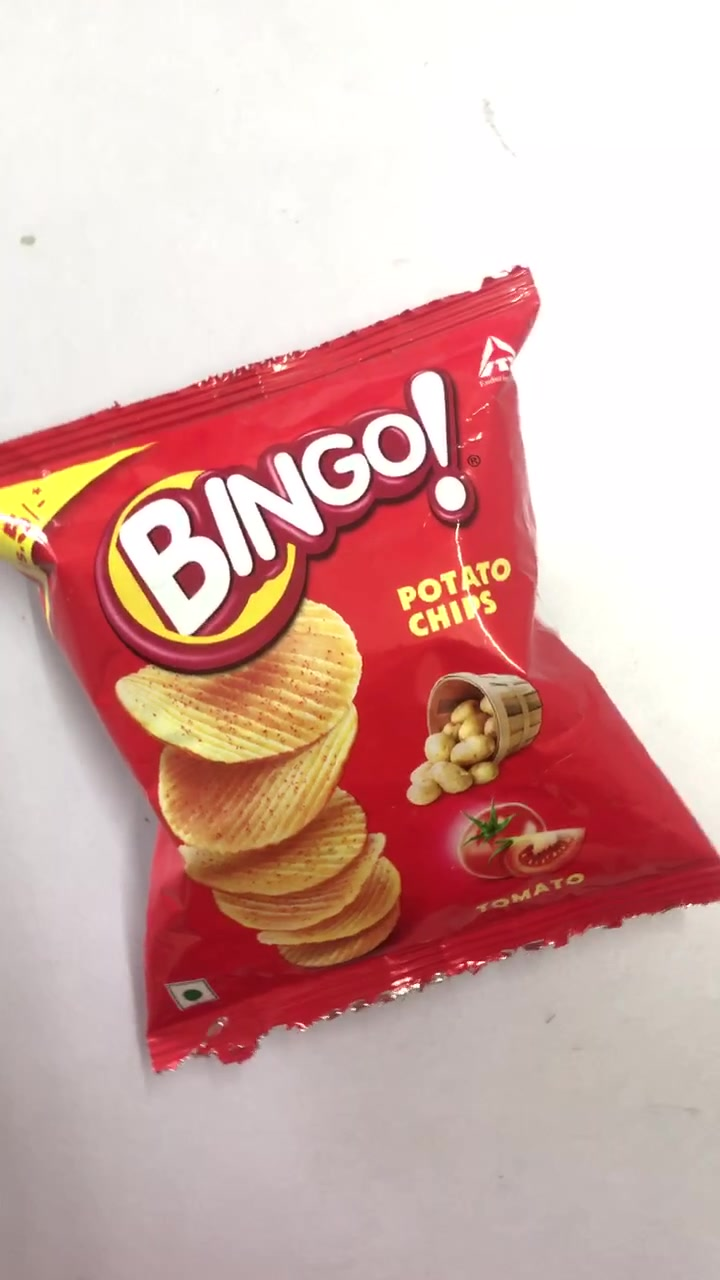Bingo: (16, 300, 709, 1028)
